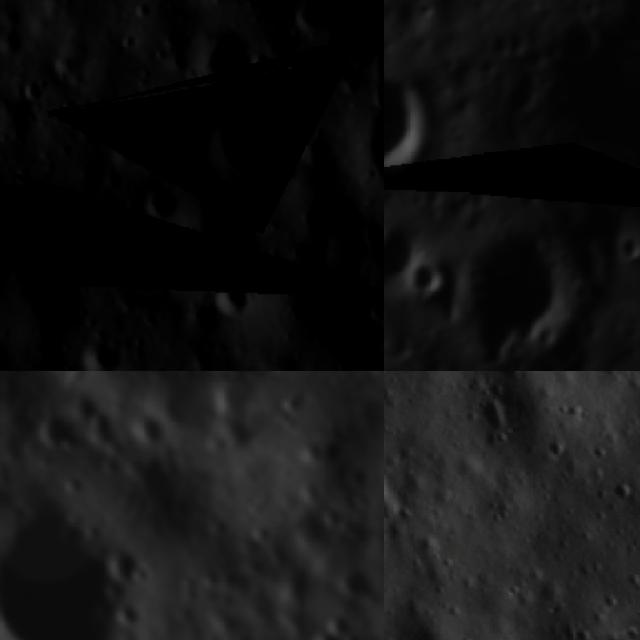crater: (0, 477, 155, 640), (555, 0, 640, 180), (463, 226, 572, 354), (203, 86, 320, 188), (182, 190, 283, 275), (0, 240, 89, 331), (191, 16, 279, 102), (151, 371, 239, 455), (384, 67, 439, 176), (122, 441, 198, 519), (28, 403, 89, 468), (543, 11, 603, 70), (325, 552, 383, 612), (97, 533, 154, 592), (204, 371, 264, 425), (384, 217, 424, 288), (128, 405, 178, 458), (206, 274, 260, 322), (495, 74, 543, 126), (333, 32, 382, 81), (78, 327, 132, 371), (48, 505, 96, 552), (404, 258, 451, 305), (338, 454, 384, 502), (108, 592, 154, 638), (142, 173, 185, 220), (355, 212, 384, 280), (290, 470, 334, 513), (319, 602, 366, 640), (244, 511, 284, 551), (313, 498, 351, 538), (314, 433, 352, 473), (294, 0, 337, 33), (384, 330, 418, 367), (17, 70, 57, 101), (93, 448, 128, 483), (613, 225, 640, 269), (345, 480, 379, 514), (301, 620, 353, 640), (626, 430, 640, 504), (220, 620, 271, 640), (222, 355, 280, 371), (0, 464, 16, 521), (242, 371, 294, 386), (257, 628, 303, 640), (419, 357, 448, 371)
